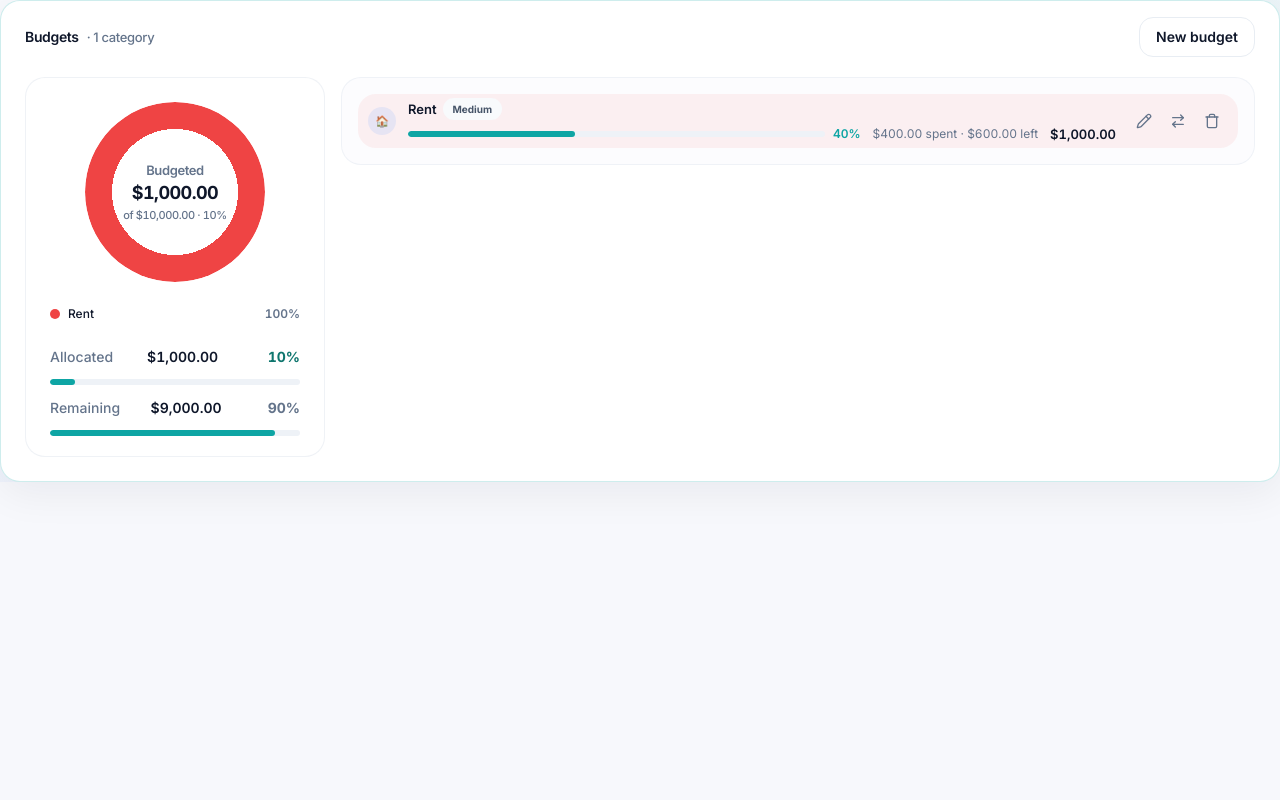
Test case: Row actions › mounts the allocation drawer only from the allocate action
The width and height of the screenshot is (1280, 800).
Click the button named "Allocate funds to Rent".
click(1178, 121)  # box [1162,105,1194,137]
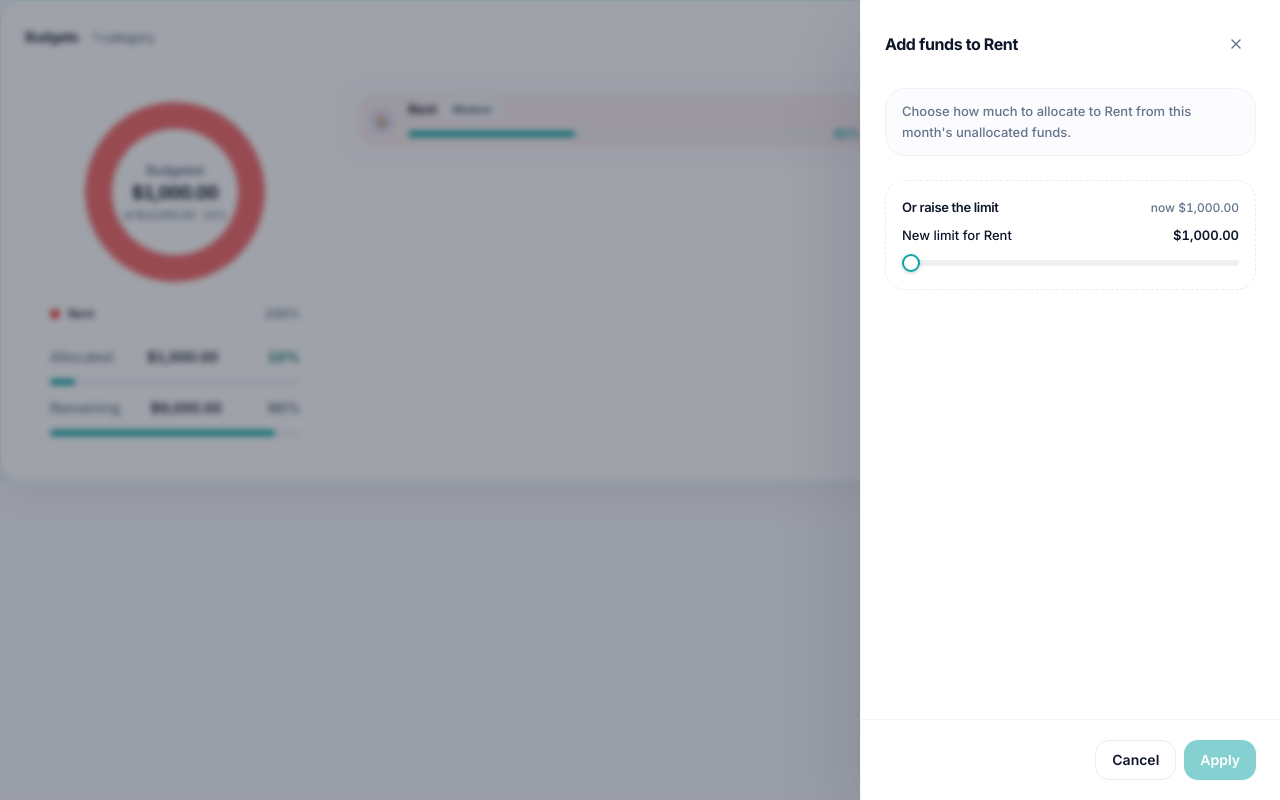
Check: the heading "Add funds to Rent" is shown, box [885,32,1018,56]
